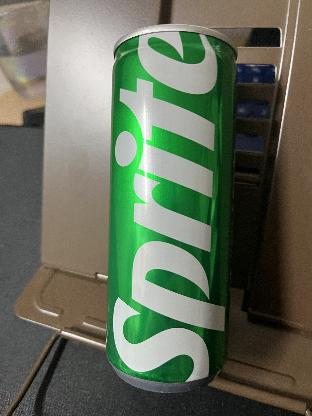Can: (106, 24, 239, 393)
